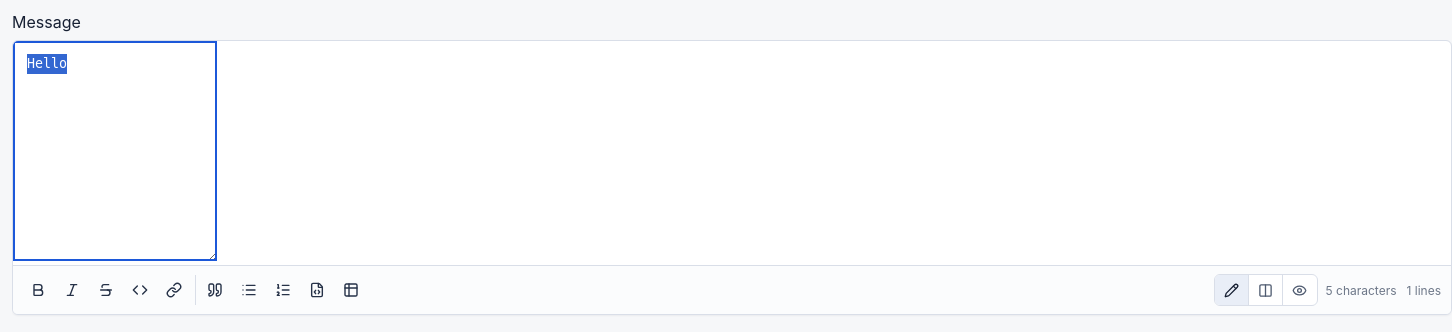
Scenario: MattermostEditor › wraps selected text with markdown formatting
Click the button named "Bold". click: (38,290)
box: x1=23 y1=275 x2=53 y2=305
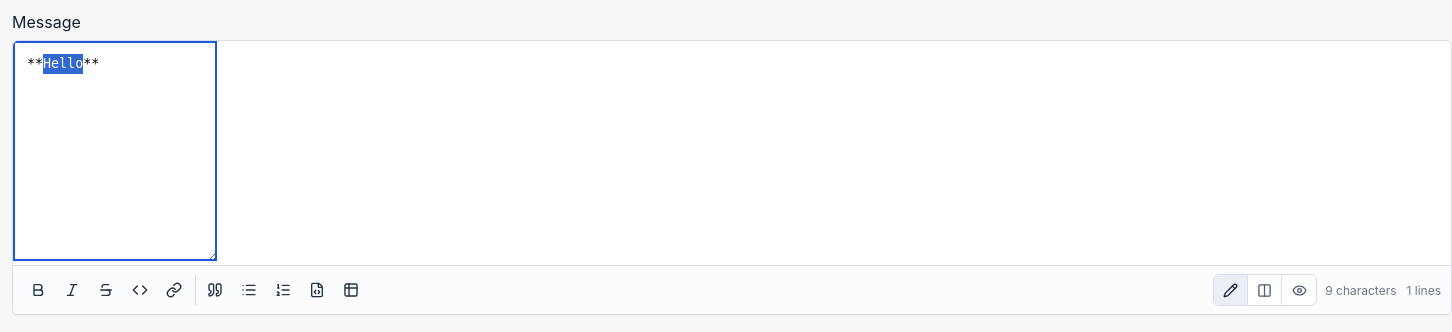
Now the text box labelled "Message" holds "**Hello**", box x1=13 y1=41 x2=217 y2=261
